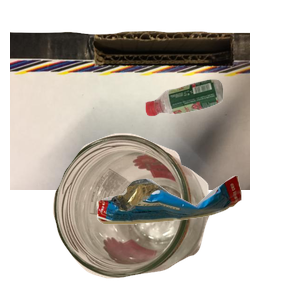cardboard: (10, 29, 250, 209)
glass: (50, 131, 252, 300)
plastic: (142, 77, 300, 186)
trash: (94, 173, 300, 300)
